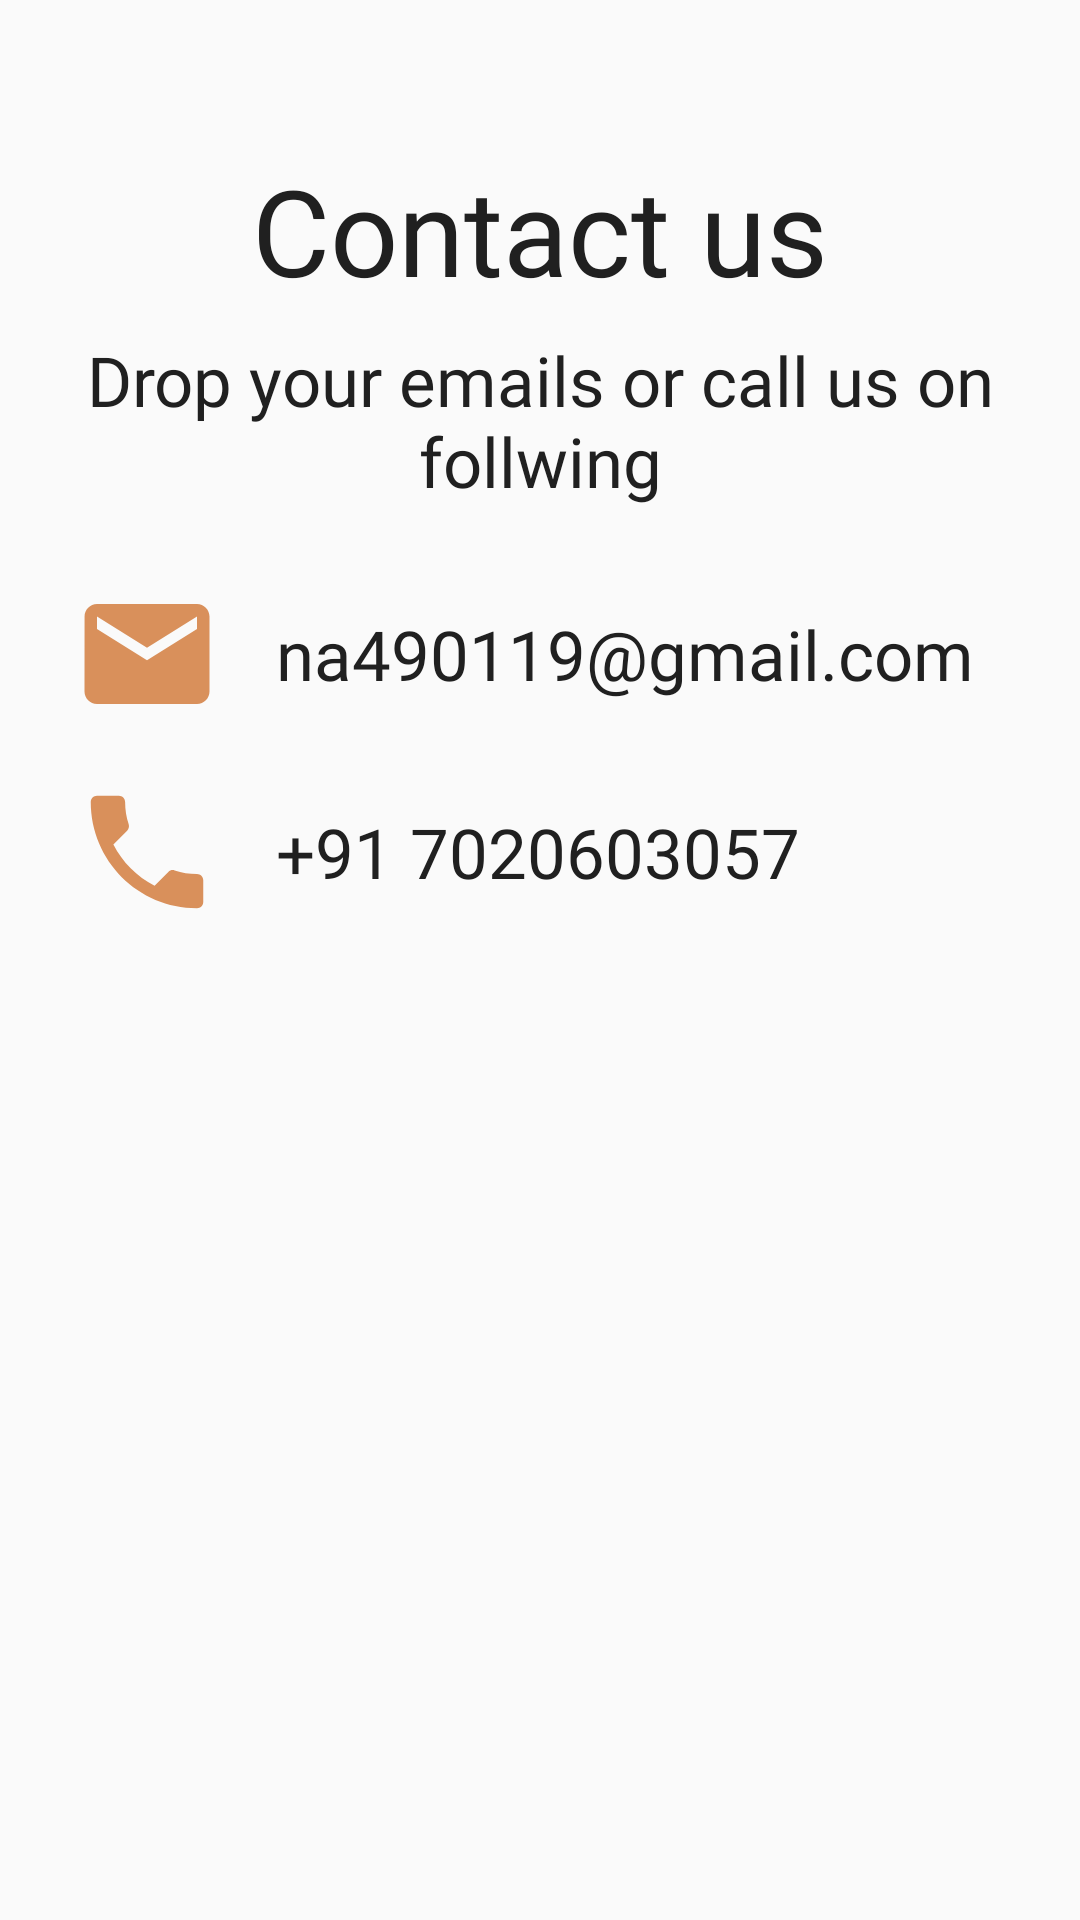

Icon bounding boxes for this 1080 × 1920 phone screenshot, format {"left": x1, "top": y1, "right": x2, "bottom": y2}:
call: {"left": 90, "top": 795, "right": 204, "bottom": 909}
